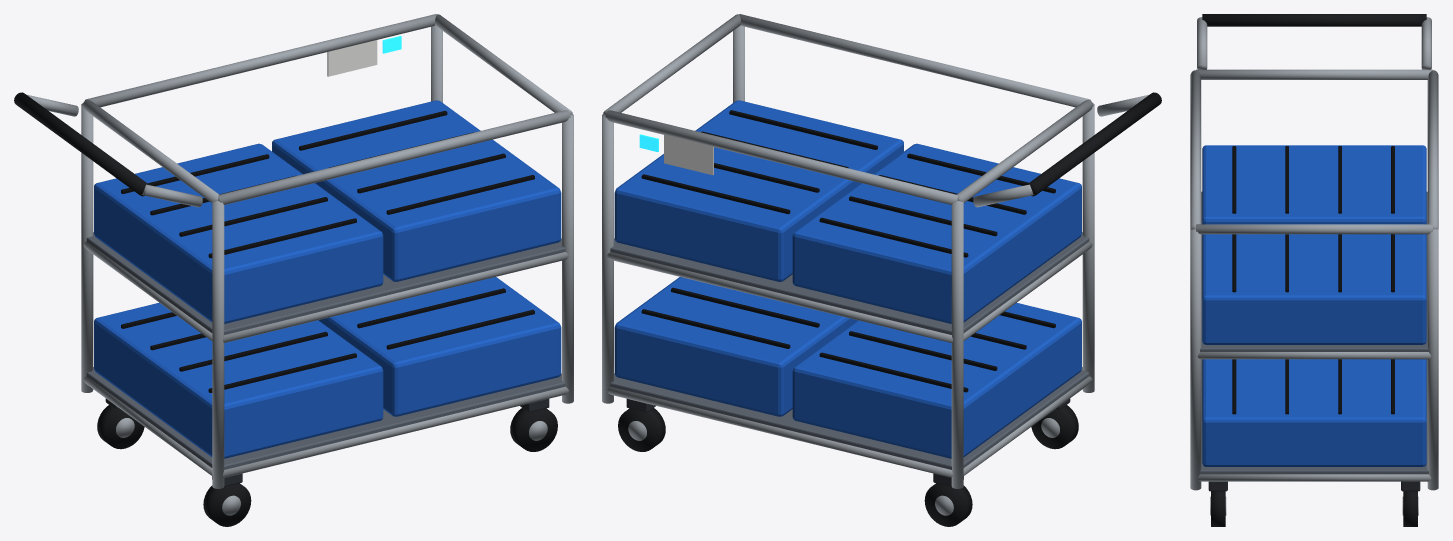
File: trolley.glb
3 renders of one model, left to right at view 1: azimuth 30°, elevation 25°; view 2: azimuth 150°, elevation 25°; view 3: azimuth 270°, elevation 25°, orthographic. The views are drawn at different scales.
Visible parts, largest first — view 1: trolley; view 2: trolley; view 3: trolley.
Boxes of the visible parts, bbox=[...] form: trolley: bbox=[14, 14, 573, 526]; trolley: bbox=[602, 14, 1161, 526]; trolley: bbox=[1190, 14, 1438, 526].
Size of the model in its own units: 1.41 by 1.15 by 0.774.
